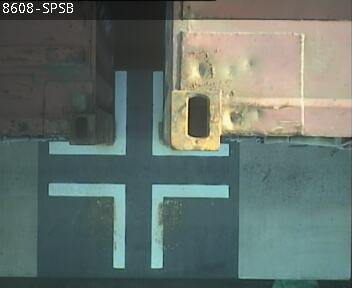groundmarker_1: (49, 72, 228, 157), (49, 182, 228, 267)
